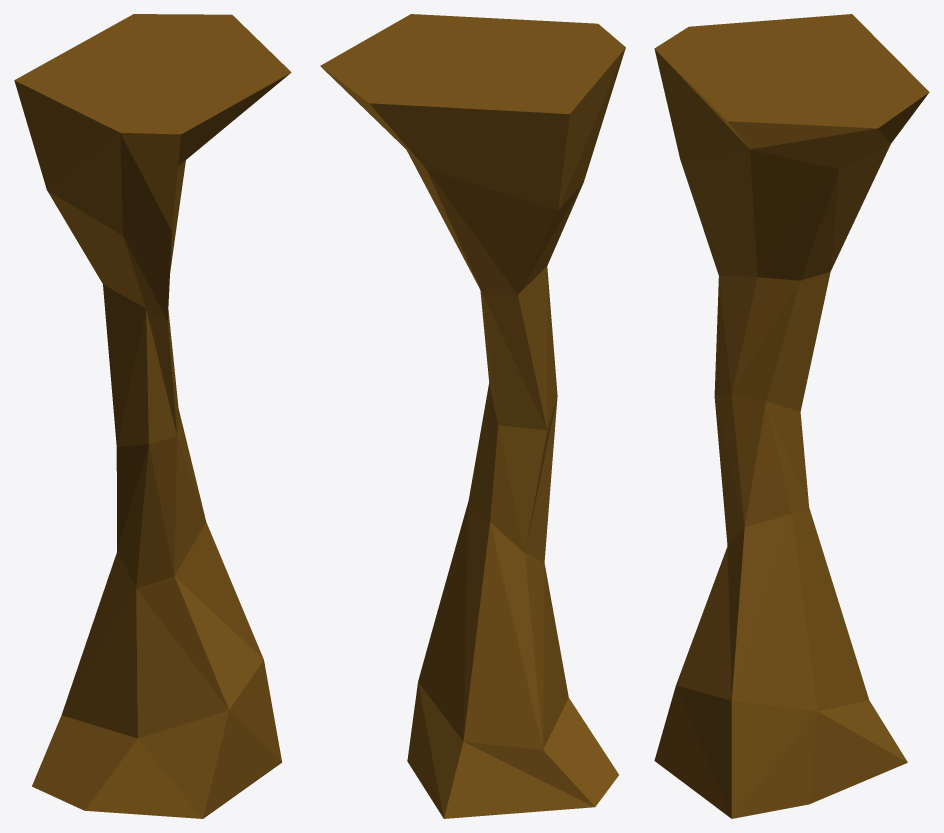
File: obj_column_7_0.obj
The picture shows the model from 3 angles, left to right: view 1: azimuth 30°, elevation 25°; view 2: azimuth 150°, elevation 25°; view 3: azimuth 270°, elevation 25°; orthographic projection. The views are drawn at different scales.
Bounding box in the file's own units: 2 × 5.62 × 2.
